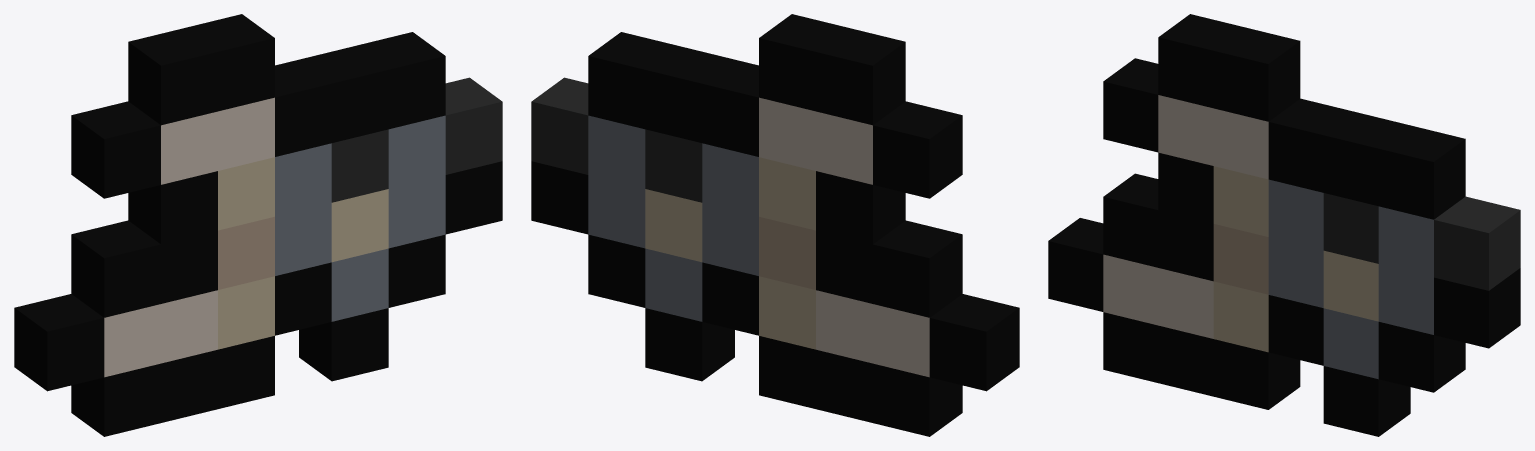
Rendered from Scored Dace.glb.
3 renders of one model, left to right at view 1: azimuth 30°, elevation 25°; view 2: azimuth 150°, elevation 25°; view 3: azimuth 330°, elevation 25°, orthographic. The views are drawn at different scales.
Parts seen in each view (by area): view 1: generated(Clone); view 2: generated(Clone); view 3: generated(Clone).
Part boxes in pixels (left/top/right/bottom): generated(Clone): left=14, top=14, right=502, bottom=436; generated(Clone): left=531, top=14, right=1019, bottom=436; generated(Clone): left=1048, top=14, right=1520, bottom=436.
Size of the model in its own units: 8 by 6 by 1.
Materials: 1 (1 with a texture image).
